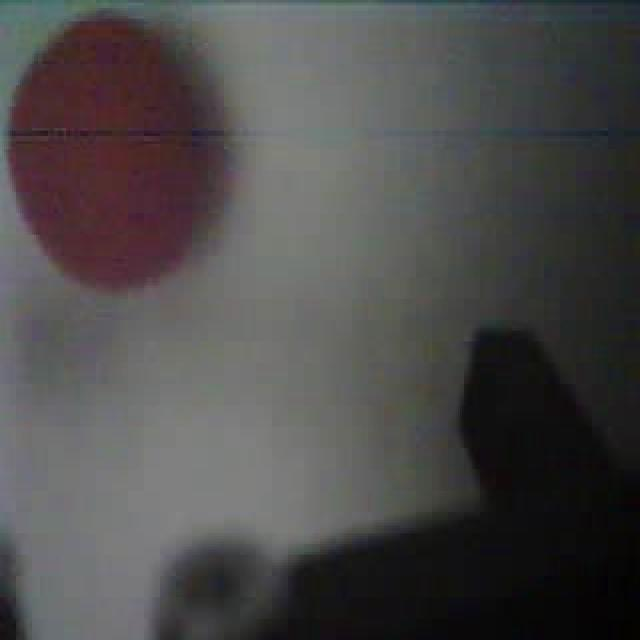red_ball: (4, 5, 230, 299)
